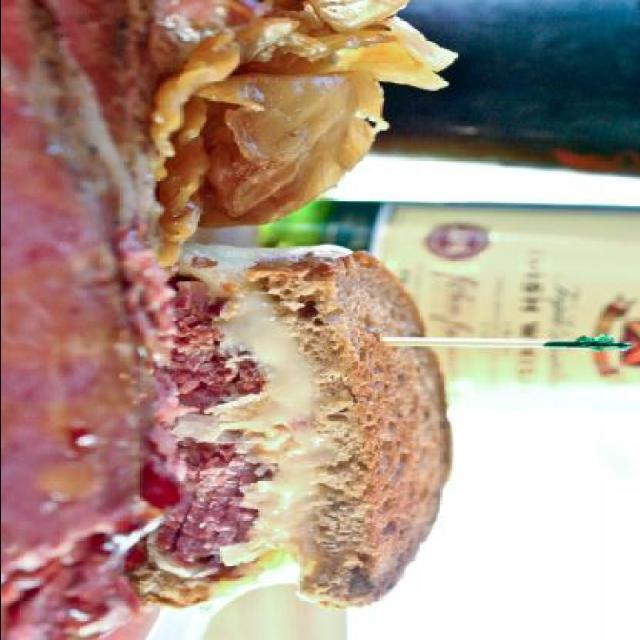Sandwich: (138, 250, 456, 610)
